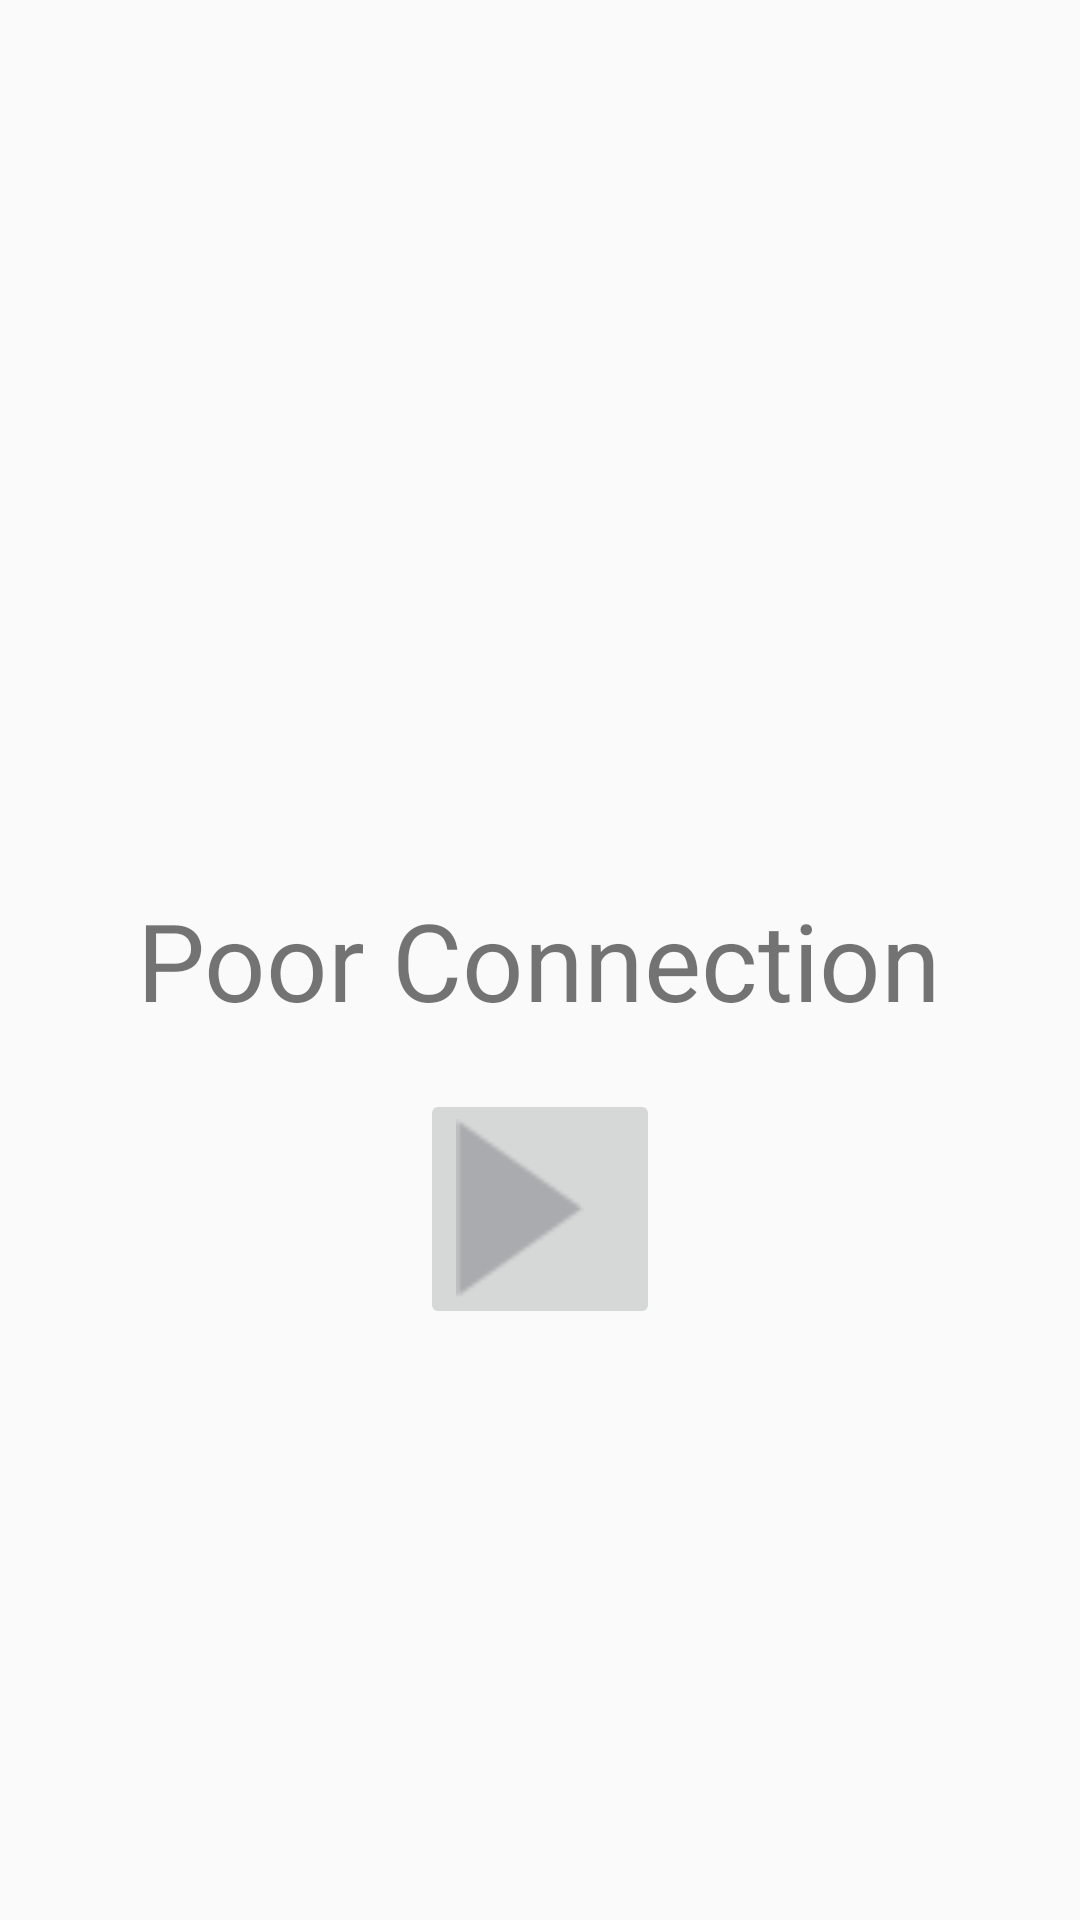

Icons on this 1080x1920 Android screen, each with its box as box(x1, y1, x2, y2):
vid: box(432, 1107, 648, 1311)
